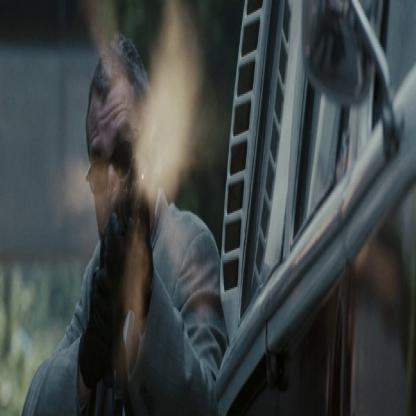Guns: (93, 122, 146, 414)
